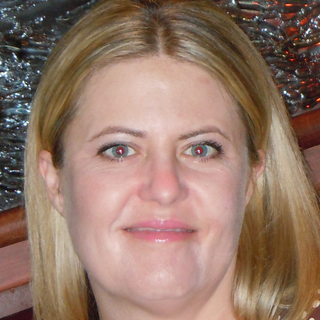eye: (92, 139, 142, 164), (178, 139, 226, 163)
